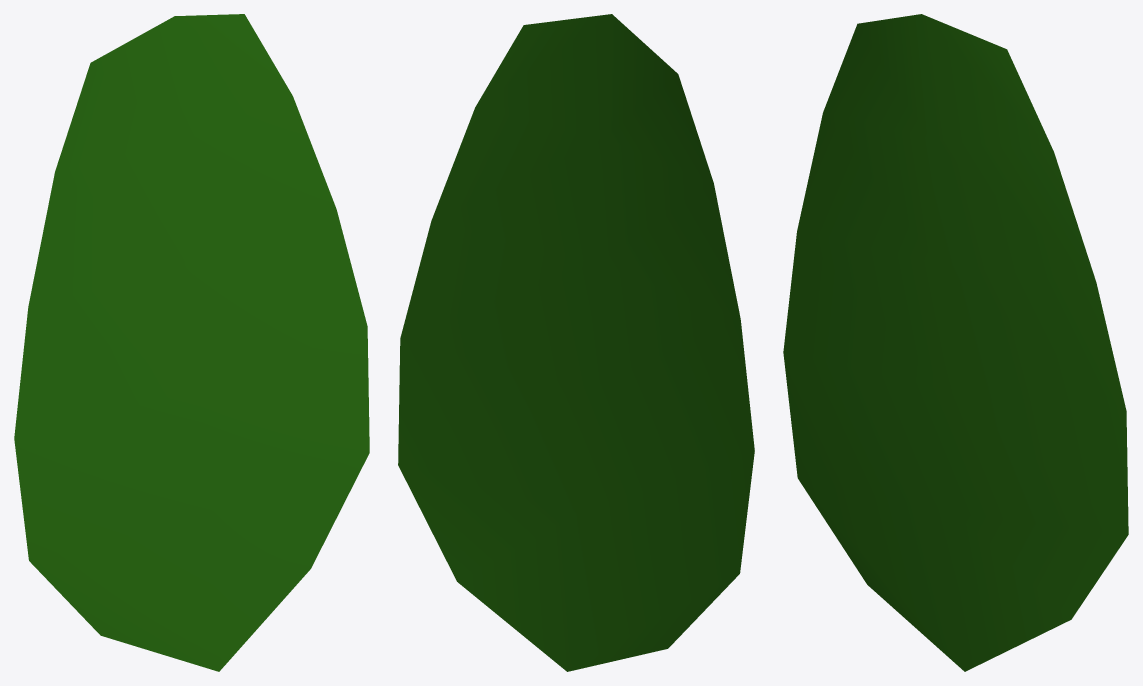
The model's file is lovebird_feather_flight_tertiary_008.001.obj.
The picture shows the model from 3 angles, left to right: view 1: azimuth 30°, elevation 25°; view 2: azimuth 150°, elevation 25°; view 3: azimuth 330°, elevation 25°; orthographic projection. The views are drawn at different scales.
Visible parts, largest first — view 1: feather_flight_tertiary_008.001; view 2: feather_flight_tertiary_008.001; view 3: feather_flight_tertiary_008.001.
Boxes of the visible parts, <box> form: feather_flight_tertiary_008.001: <box>14,14,369,671</box>; feather_flight_tertiary_008.001: <box>398,14,754,671</box>; feather_flight_tertiary_008.001: <box>783,14,1128,671</box>.
Size of the model in its own units: 0.00364 by 0.00652 by 0.00016.
